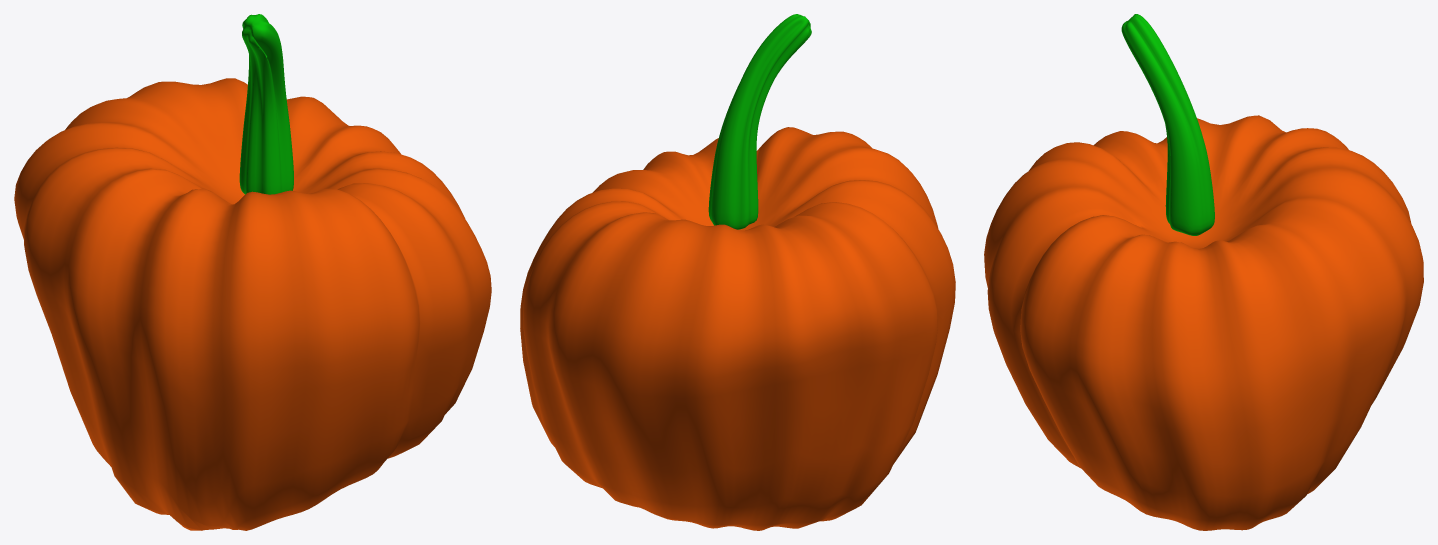
Rendered from pumkin_2.glb.
The picture shows the model from 3 angles, left to right: view 1: azimuth 30°, elevation 25°; view 2: azimuth 150°, elevation 25°; view 3: azimuth 270°, elevation 25°; orthographic projection. The views are drawn at different scales.
Visible parts, largest first — view 1: Sphere.010_21, Cylinder.009_20; view 2: Sphere.010_21, Cylinder.009_20; view 3: Sphere.010_21, Cylinder.009_20.
Boxes of the visible parts, left/top/right/bottom form: Sphere.010_21: left=14, top=78, right=491, bottom=530; Cylinder.009_20: left=239, top=14, right=293, bottom=194; Sphere.010_21: left=520, top=127, right=955, bottom=530; Cylinder.009_20: left=708, top=14, right=811, bottom=229; Sphere.010_21: left=984, top=115, right=1423, bottom=530; Cylinder.009_20: left=1121, top=14, right=1214, bottom=235.
Bounding box in the file's own units: 1.59 × 1.9 × 1.64.
